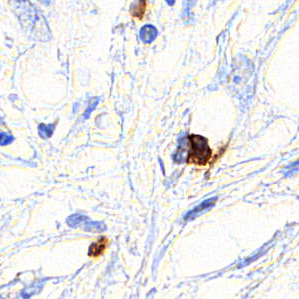Lymphocyte: (186, 133, 212, 167)
